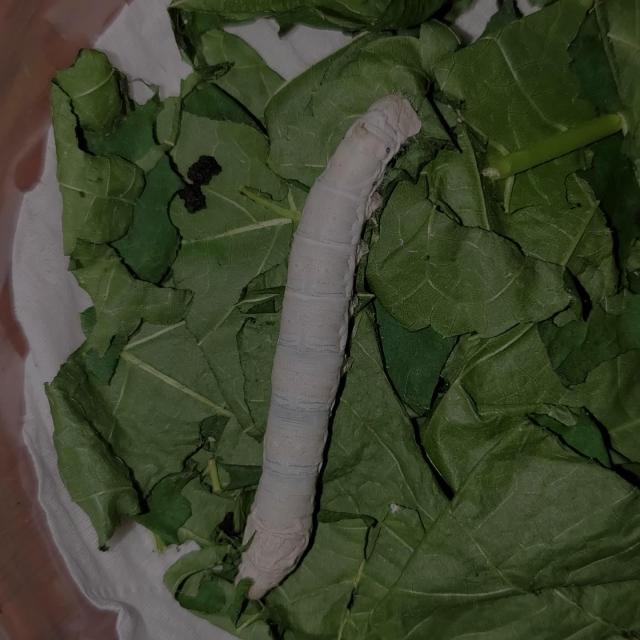Healthy: (231, 88, 418, 599)
